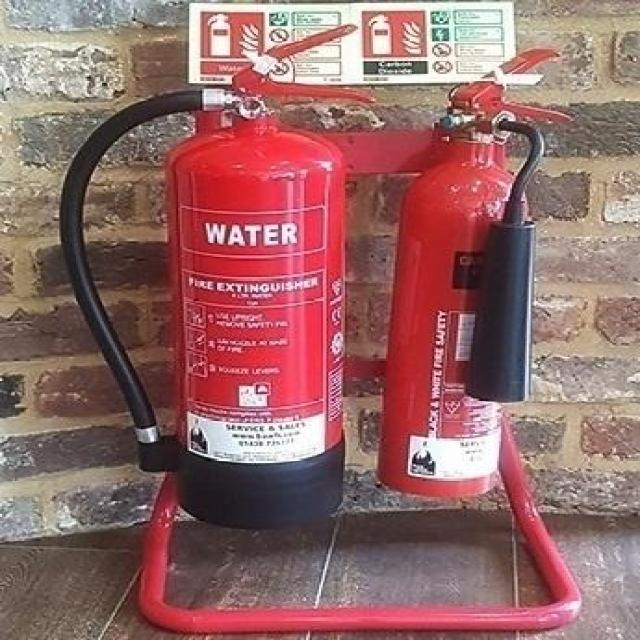fire_extinguisher: (53, 18, 379, 533), (366, 44, 576, 499)
